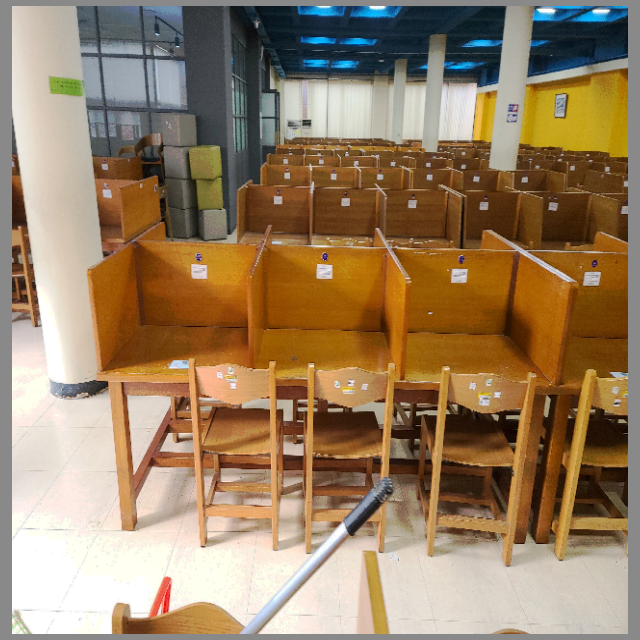empty: (410, 237, 561, 474), (91, 218, 249, 442), (255, 227, 404, 454)
